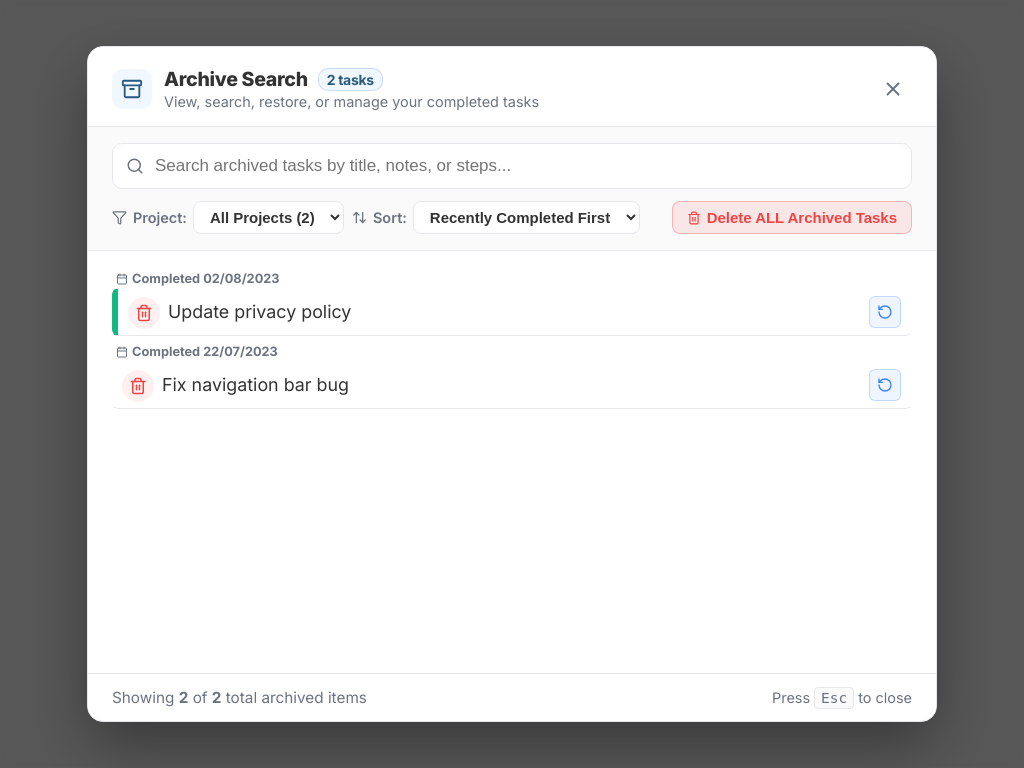
Test case: filters tasks by search query inside ArchiveModal
Step 1. Type "navigation" into the field with placeholder "Search archived tasks by title, notes, or steps..." → (512, 166), box [112,143,912,189]
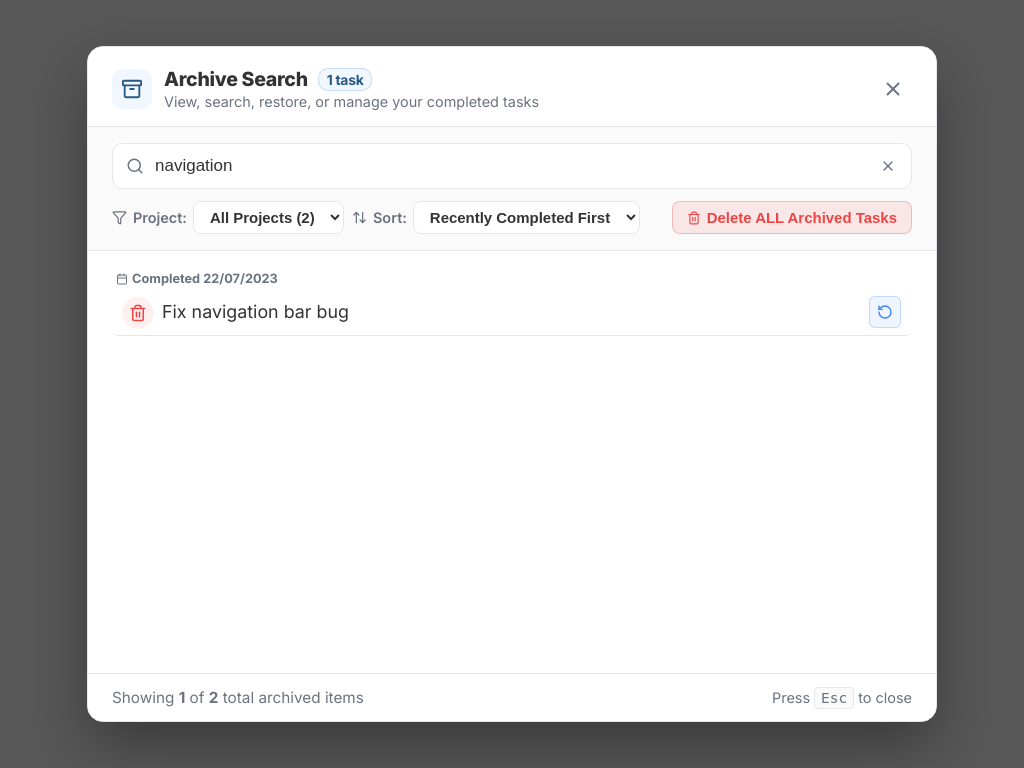
Check: the text "Fix navigation bar bug" is shown, box [162,301,349,322]
Check: the text "Update privacy policy" is gone
